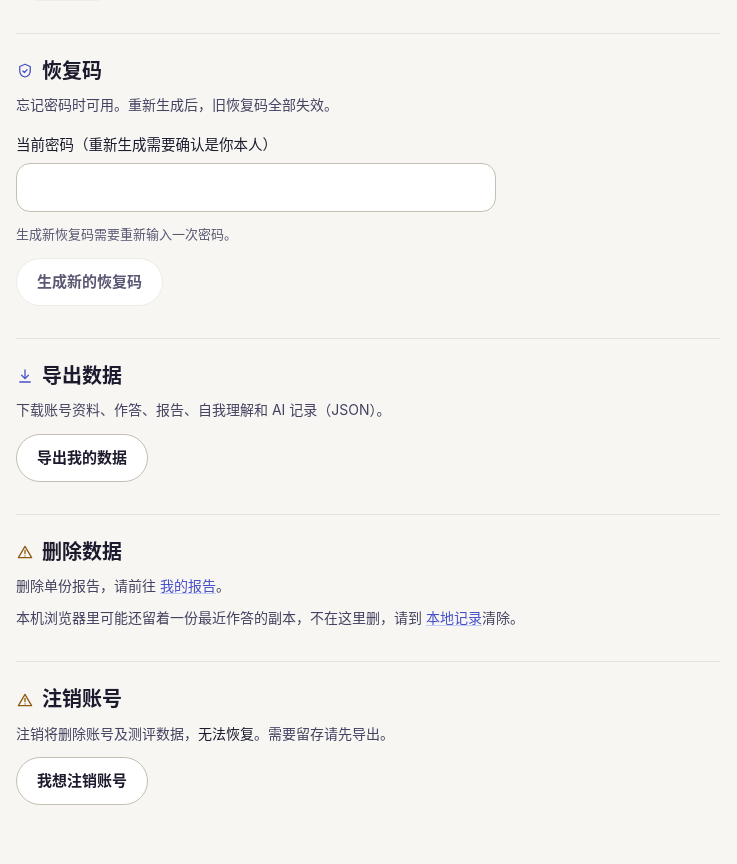
Test: 账号页 · 导出完整性提示 › 有段落没导出成功时：**不说**「都在里面」，明确说不是完整备份，并点名缺了什么
(page scrolled)
Step 1. Click the button "导出我的数据" → {"x": 82, "y": 458}, box [16,434,148,482]
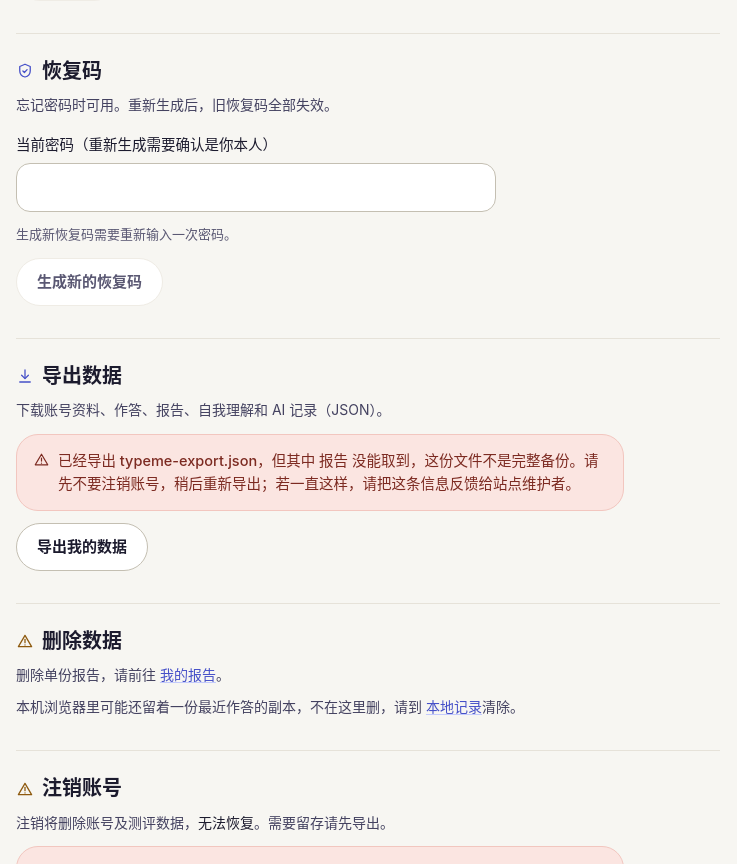
Expected: the text "不是完整备份" is shown, [58,452,598,492]
Expected: the text "先不要注销账号" is shown, [58,452,598,492]
Expected: the text "请先不要注销账号" is shown, [58,452,598,492]
